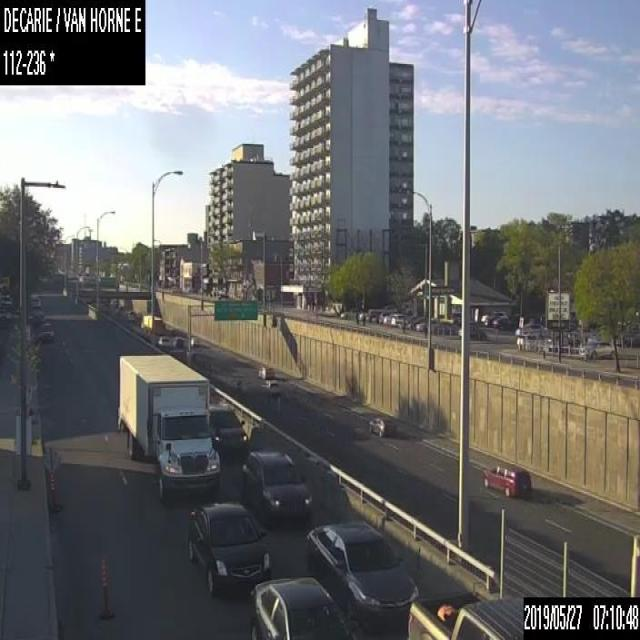construction: (99, 556, 114, 619), (45, 446, 57, 510)
vehicle: (117, 352, 220, 502), (305, 521, 417, 628), (186, 500, 270, 594), (248, 574, 353, 639), (407, 590, 522, 638), (242, 450, 310, 524), (208, 404, 246, 454), (481, 462, 531, 494), (578, 340, 614, 358), (369, 415, 395, 436), (140, 313, 162, 332), (479, 310, 506, 325), (514, 323, 540, 337), (37, 322, 54, 342), (415, 317, 438, 330), (261, 379, 278, 394), (390, 313, 406, 326), (257, 366, 273, 379), (491, 315, 509, 326), (157, 334, 170, 347), (29, 295, 41, 306), (172, 336, 182, 348)
